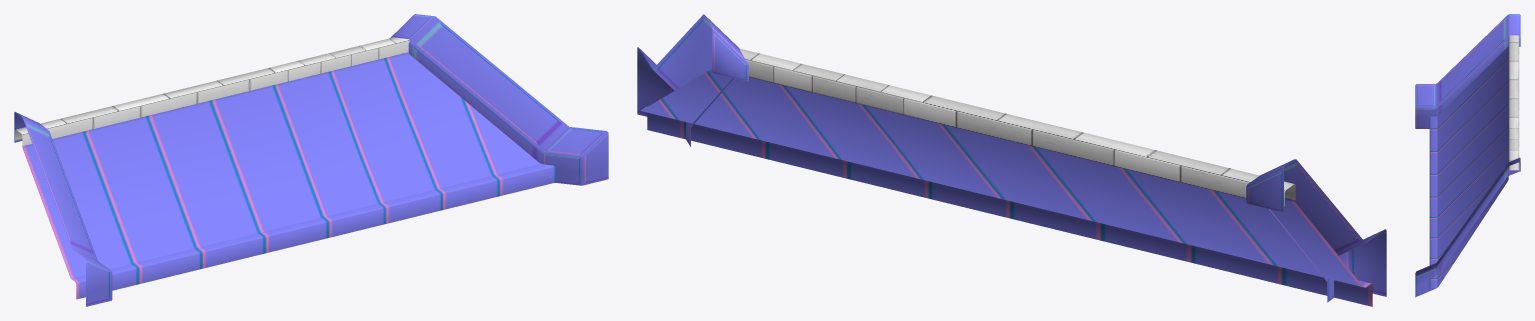
Rendered from SM_Roof_03a.fbx.
3 renders of one model, left to right at view 1: azimuth 30°, elevation 25°; view 2: azimuth 150°, elevation 25°; view 3: azimuth 270°, elevation 25°, orthographic. The views are drawn at different scales.
Parts seen in each view (by area): view 1: SM_Roof_Corner_03a; view 2: SM_Roof_Corner_03a; view 3: SM_Roof_Corner_03a.
Part boxes in pixels (x1=…): SM_Roof_Corner_03a: x1=14, y1=14, x2=608, y2=306; SM_Roof_Corner_03a: x1=637, y1=14, x2=1386, y2=306; SM_Roof_Corner_03a: x1=1415, y1=14, x2=1520, y2=297.
Bounding box in the file's own units: 661 × 157 × 173.
